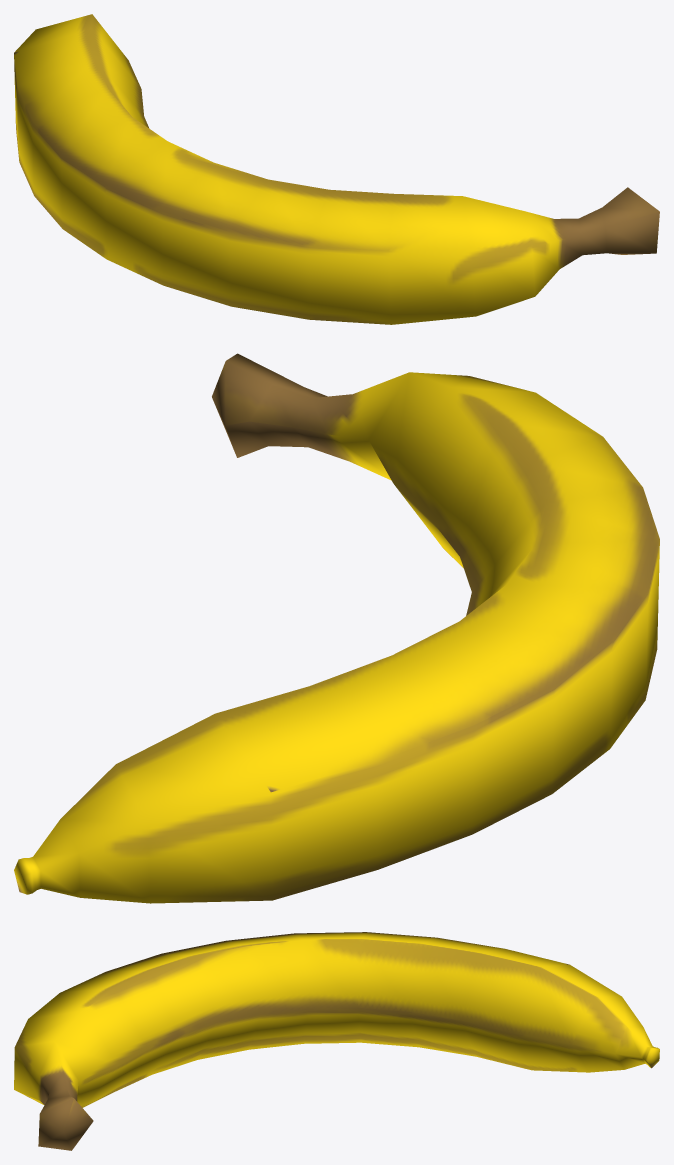
The model's file is Banana_V2.fbx.
3 renders of one model, top to bottom at view 1: azimuth 30°, elevation 25°; view 2: azimuth 150°, elevation 25°; view 3: azimuth 270°, elevation 25°, orthographic. The views are drawn at different scales.
Visible parts, largest first — view 1: Banana; view 2: Banana; view 3: Banana.
Part boxes in pixels (<box>): Banana: <box>14,14,659,324</box>; Banana: <box>14,353,659,903</box>; Banana: <box>14,932,659,1150</box>.
Size of the model in its own units: 41.42 by 11.9 by 66.44.
